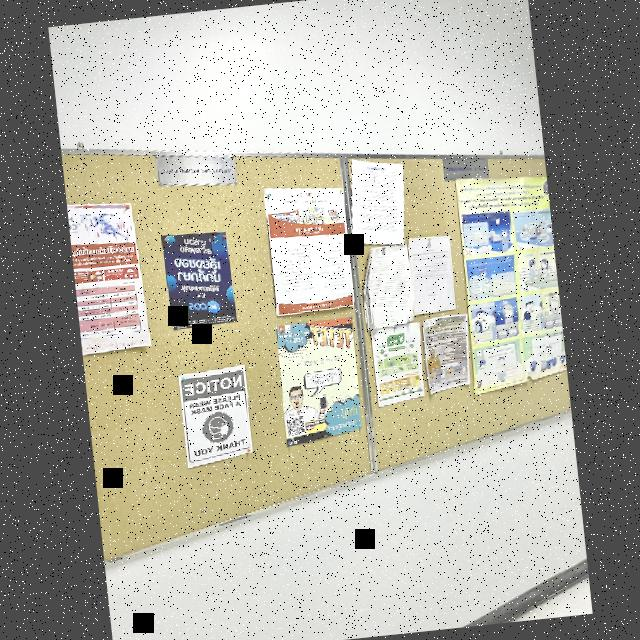reuseable_paper: (452, 164, 568, 400), (341, 156, 456, 330), (258, 174, 362, 317), (66, 188, 155, 352), (270, 311, 366, 448), (158, 218, 247, 348), (368, 305, 477, 410), (172, 358, 262, 462)
